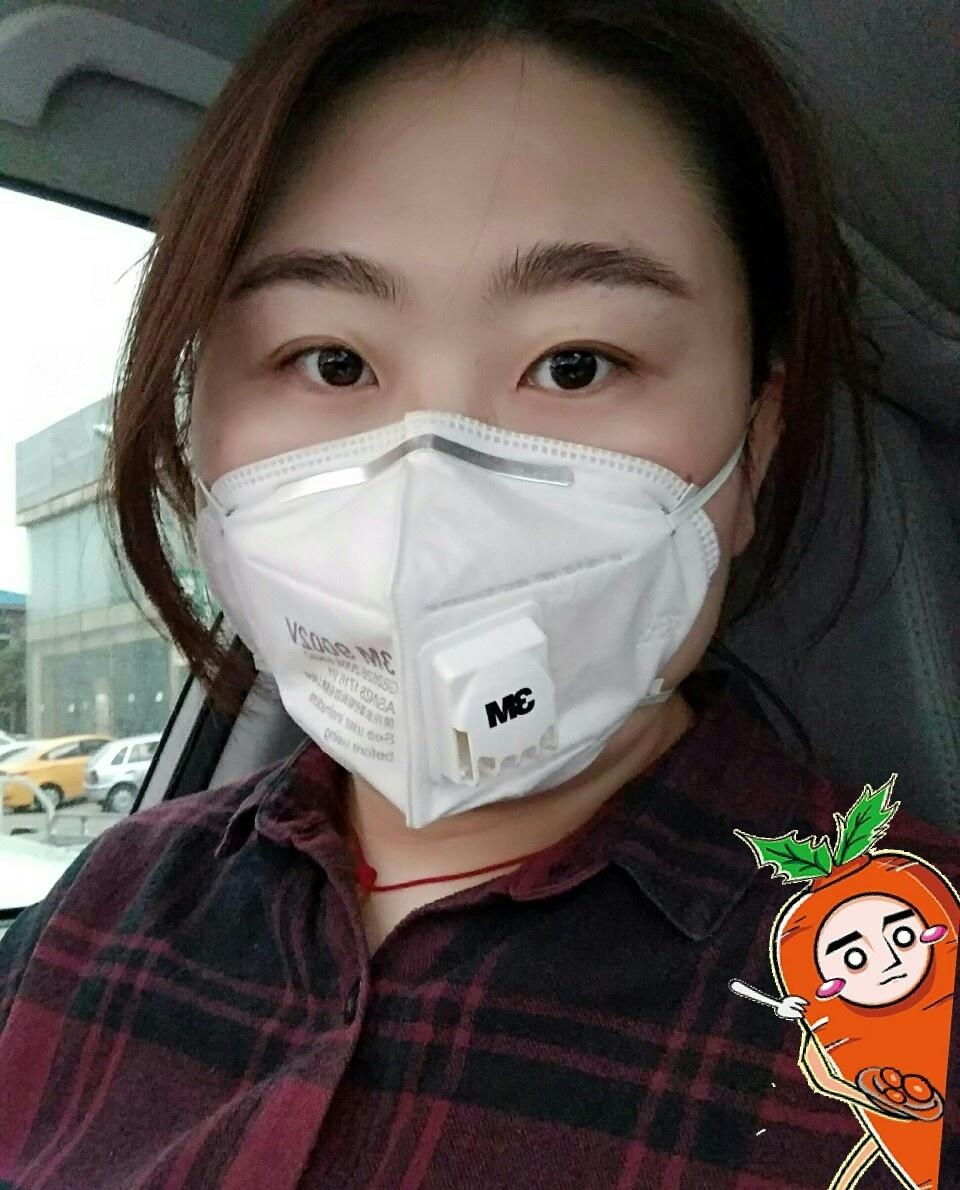Mask: (182, 210, 789, 817)
